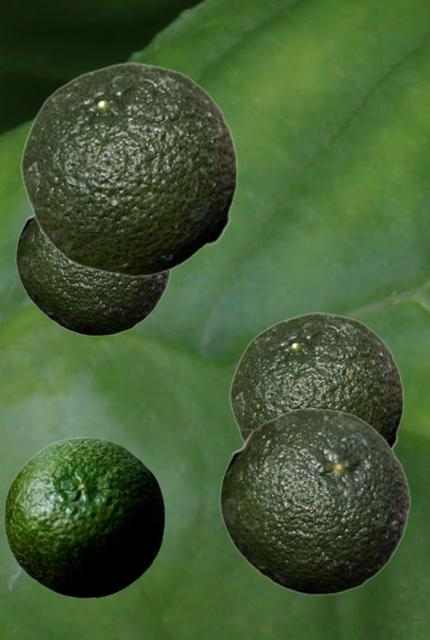calamansi: (20, 62, 237, 276), (219, 408, 410, 594), (3, 436, 164, 598), (229, 312, 403, 448), (15, 213, 172, 335)
